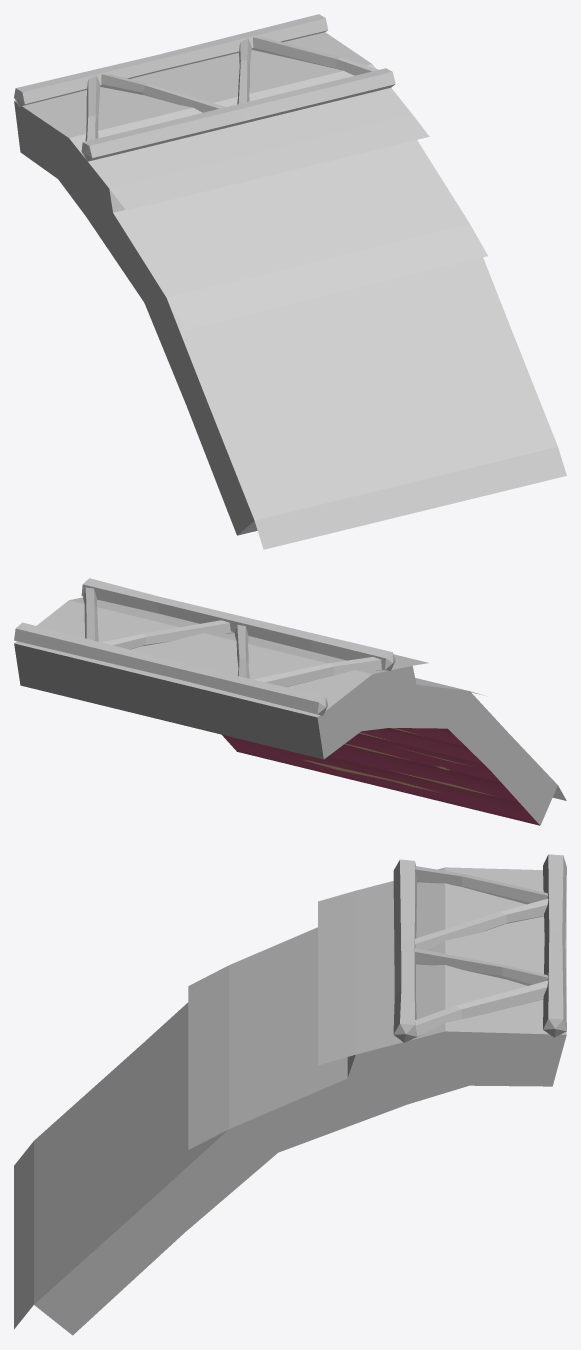
File: SM_Bld_Roof_Thatch_Convex_01.fbx
The picture shows the model from 3 angles, top to bottom: view 1: azimuth 30°, elevation 25°; view 2: azimuth 150°, elevation 25°; view 3: azimuth 270°, elevation 25°; orthographic projection. The views are drawn at different scales.
Parts seen in each view (by area): view 1: SM_Bld_Roof_Thatch_Convex_01; view 2: SM_Bld_Roof_Thatch_Convex_01; view 3: SM_Bld_Roof_Thatch_Convex_01.
Part boxes in pixels (x1,y1,x2,y2): SM_Bld_Roof_Thatch_Convex_01: (14, 14, 566, 549); SM_Bld_Roof_Thatch_Convex_01: (14, 578, 566, 825); SM_Bld_Roof_Thatch_Convex_01: (14, 854, 566, 1335).
Size of the model in its own units: 255 by 226 by 356.
